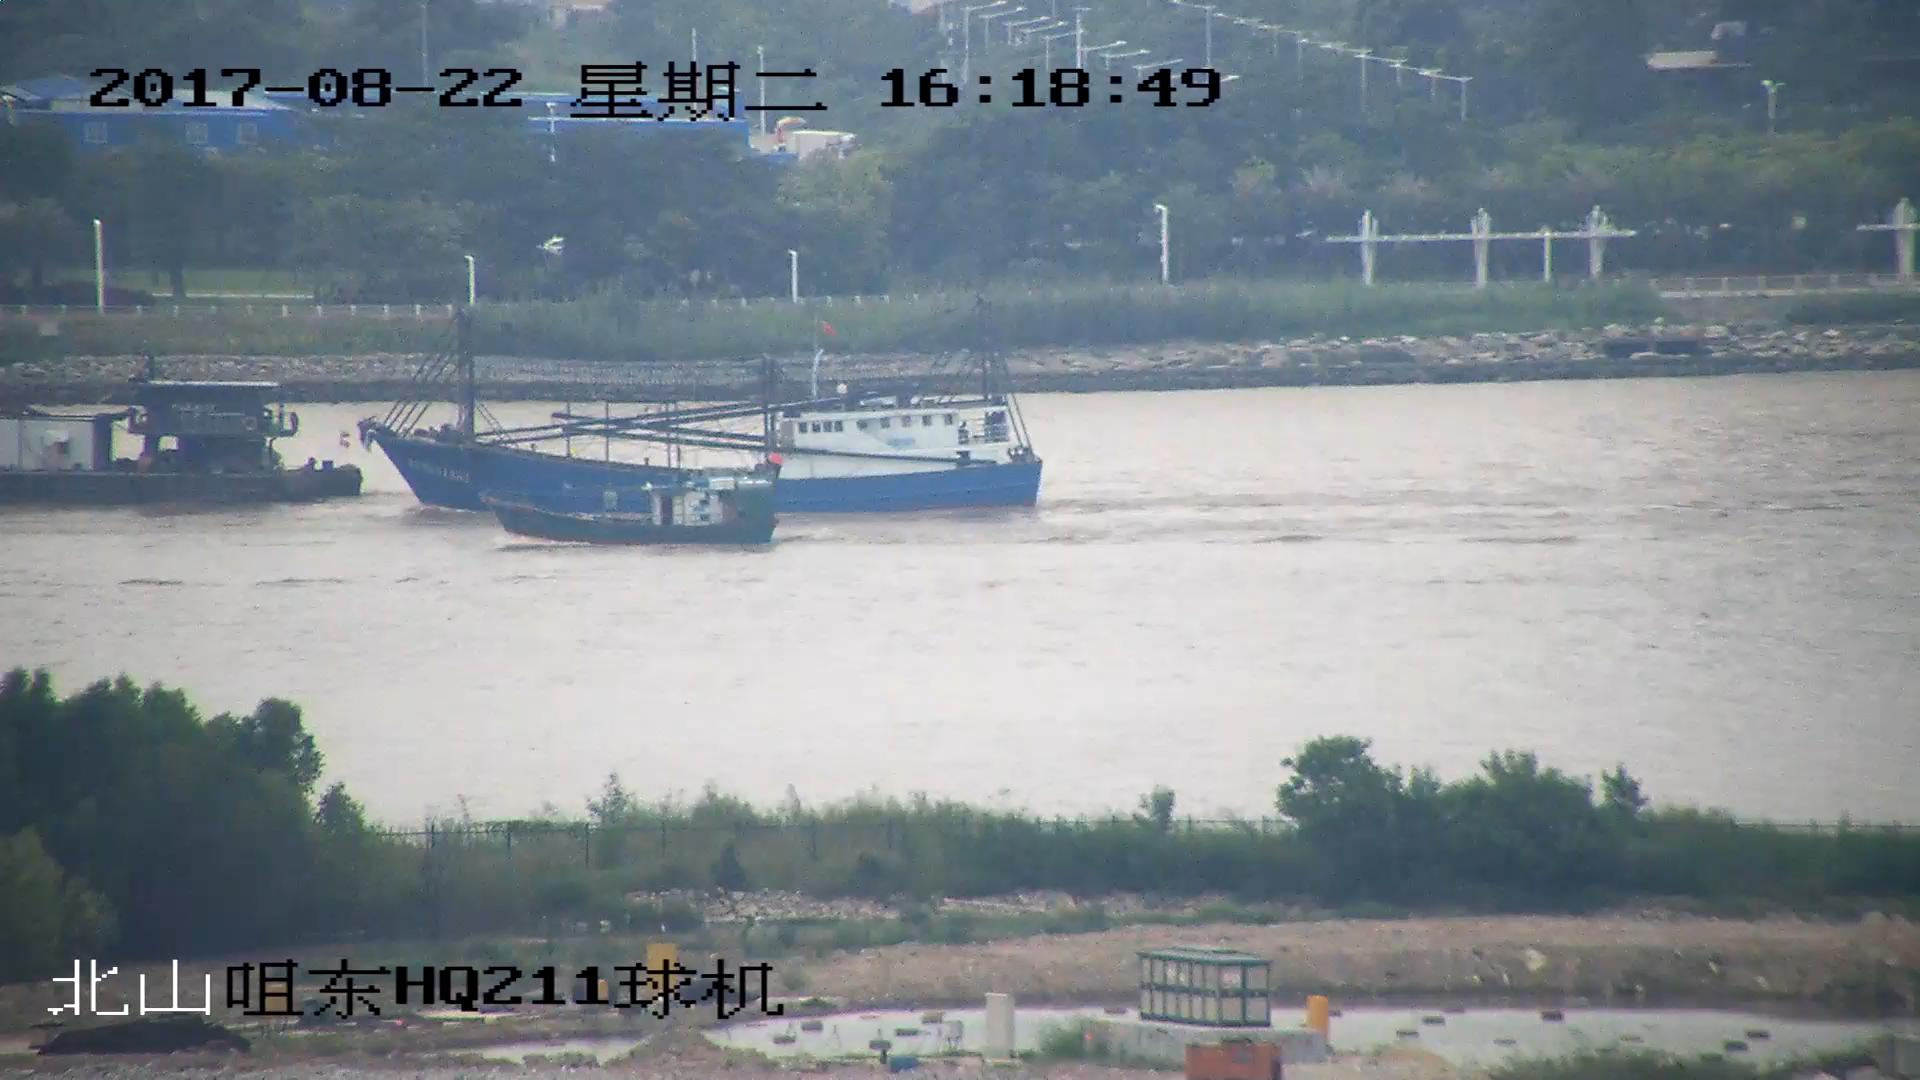bulk cargo carrier: (1, 374, 368, 507)
fishing boat: (353, 310, 1040, 522), (485, 458, 785, 548)
